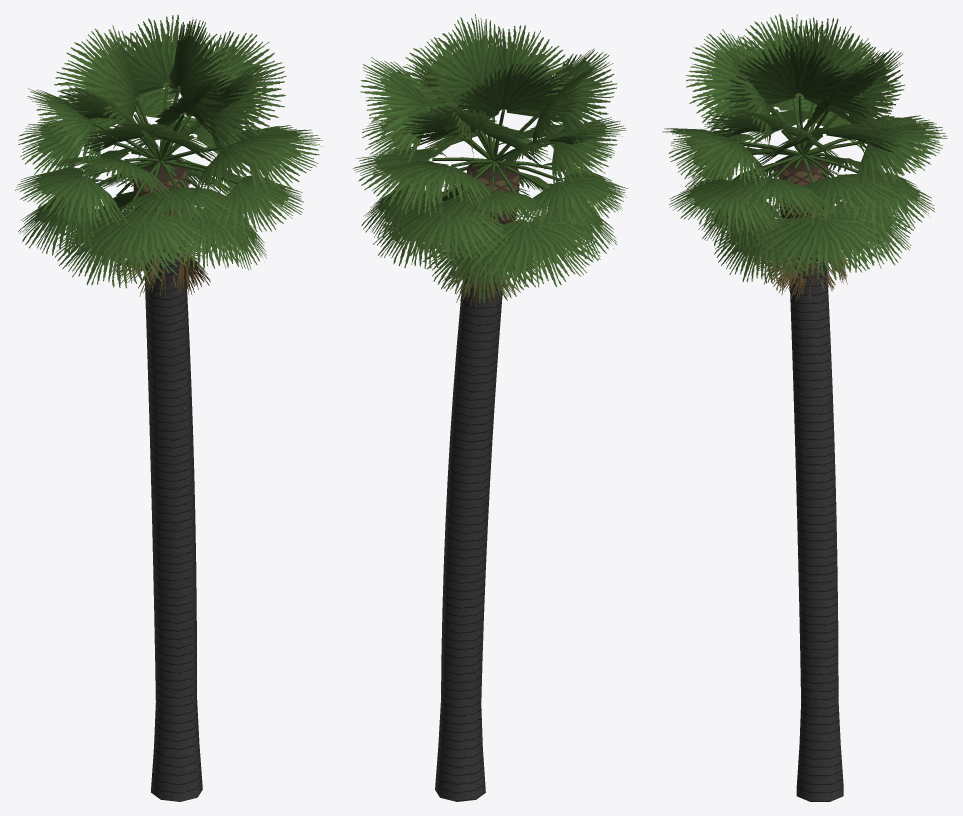
File: palm_palmyra_1.glb
The picture shows the model from 3 angles, left to right: view 1: azimuth 30°, elevation 25°; view 2: azimuth 150°, elevation 25°; view 3: azimuth 270°, elevation 25°; orthographic projection. The views are drawn at different scales.
Parts seen in each view (by area): view 1: palm_palmyra_1; view 2: palm_palmyra_1; view 3: palm_palmyra_1.
Boxes of the visible parts, box(x1,y1,x2,y2) form: palm_palmyra_1: box(15, 14, 322, 801); palm_palmyra_1: box(353, 14, 627, 801); palm_palmyra_1: box(662, 14, 947, 801).
Bounding box in the file's own units: 5.04 × 13.71 × 4.75.
1 material, 1 textured.
